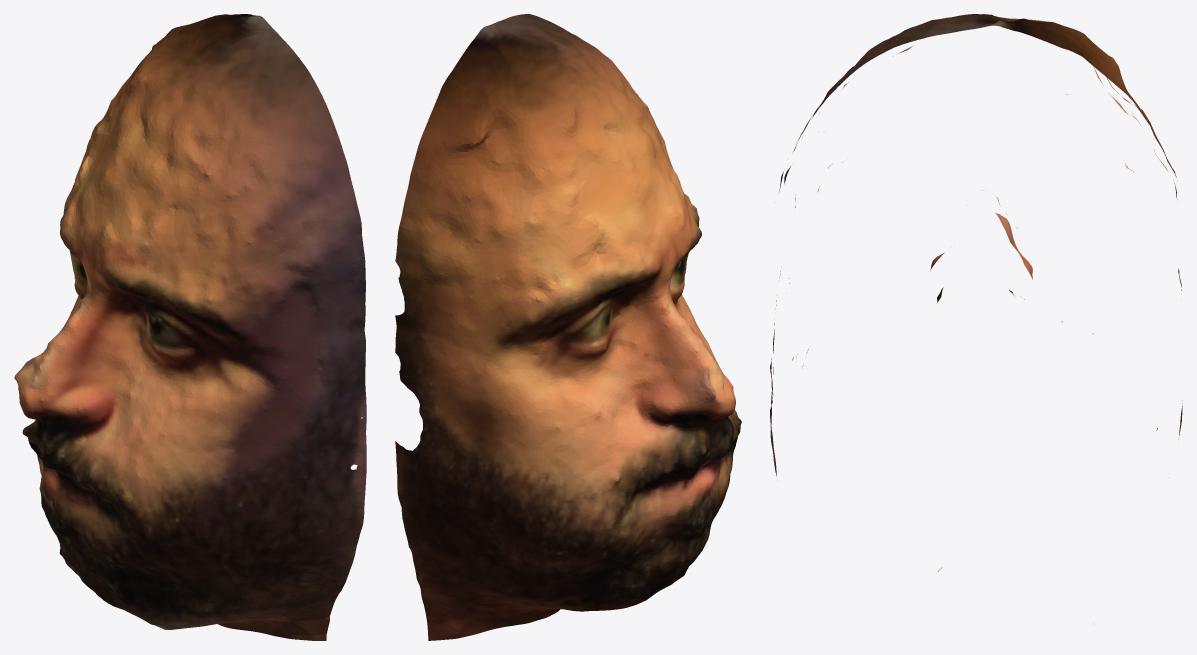
The model's file is Faccia 2.glb.
3 renders of one model, left to right at view 1: azimuth 30°, elevation 25°; view 2: azimuth 150°, elevation 25°; view 3: azimuth 270°, elevation 25°, orthographic. The views are drawn at different scales.
Visible parts, largest first — view 1: mesh; view 2: mesh; view 3: mesh.
Boxes of the visible parts, x1,y1,x2,y2 form: mesh: (14,14,366,640); mesh: (395,14,741,640); mesh: (770,14,1182,571).
Bounding box in the file's own units: 0.0982 × 0.221 × 0.1344.
1 material, 1 textured.
